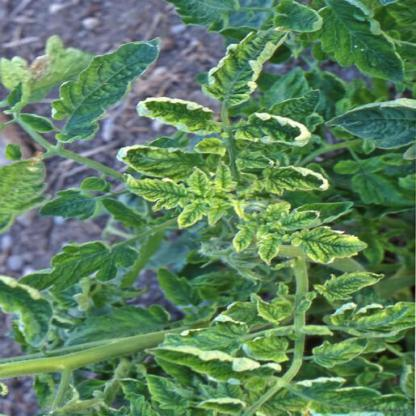tomato leaf yellow virus: (204, 3, 300, 106), (134, 95, 221, 140), (288, 224, 371, 265), (121, 173, 195, 209), (237, 111, 314, 144), (317, 271, 389, 303), (262, 166, 331, 195), (241, 333, 295, 364), (182, 166, 214, 196)
